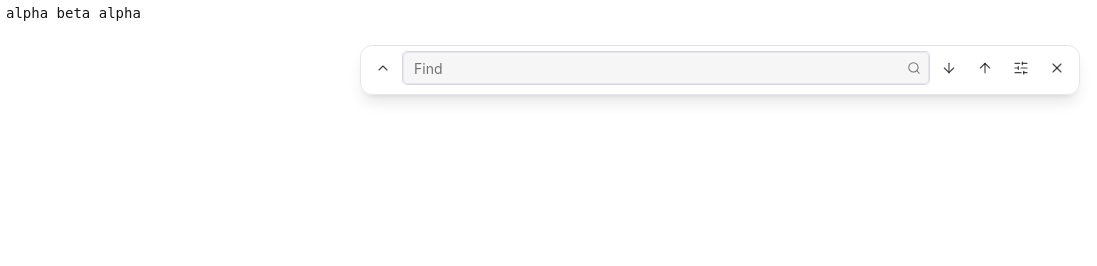
custom editor search panel › persists case/regex/whole-word across panel close and a new editor, but not the query
Step 1. Type "alpha" into the field with test id "note-search-find" → (666, 68), box x1=403 y1=52 x2=929 y2=84
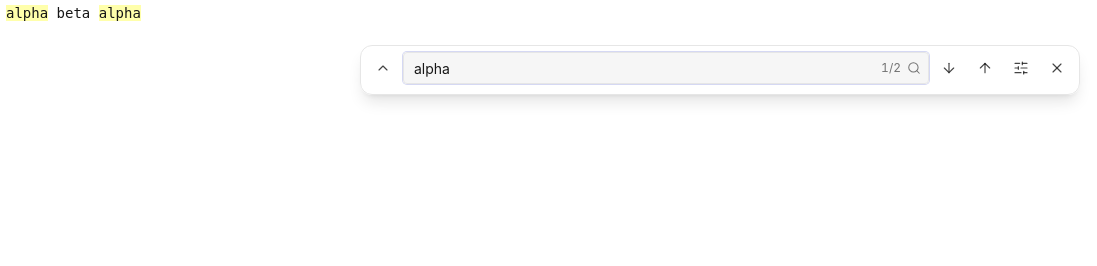
Step 2. Click the button named "Search options" → (1021, 68), box x1=1005 y1=52 x2=1037 y2=84
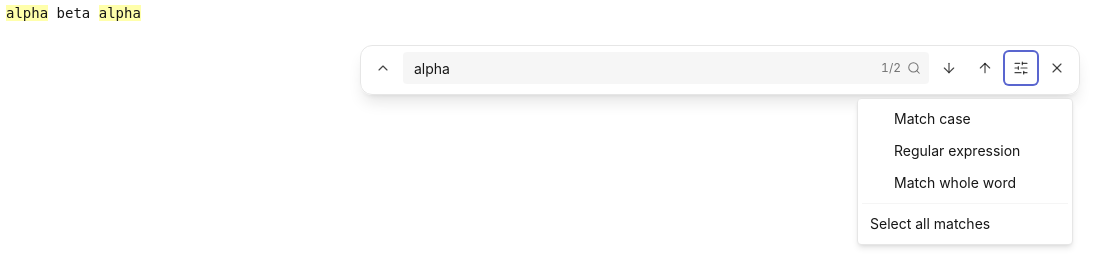
Step 3. Click the menu item "Match case" → (965, 119), box x1=862 y1=103 x2=1068 y2=135
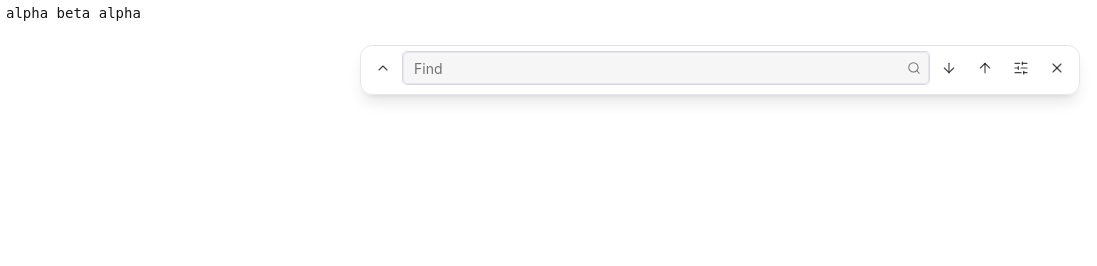
Expected: the field with test id "note-search-find" is empty, x1=403 y1=52 x2=929 y2=84
Step 4. Click the button named "Search options" → (1021, 68), box x1=1005 y1=52 x2=1037 y2=84
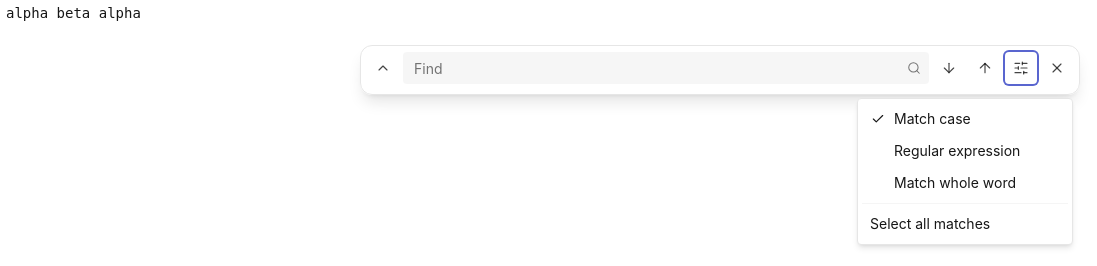
Expected: the menu item "Match case" is checked, x1=862 y1=103 x2=1068 y2=135
